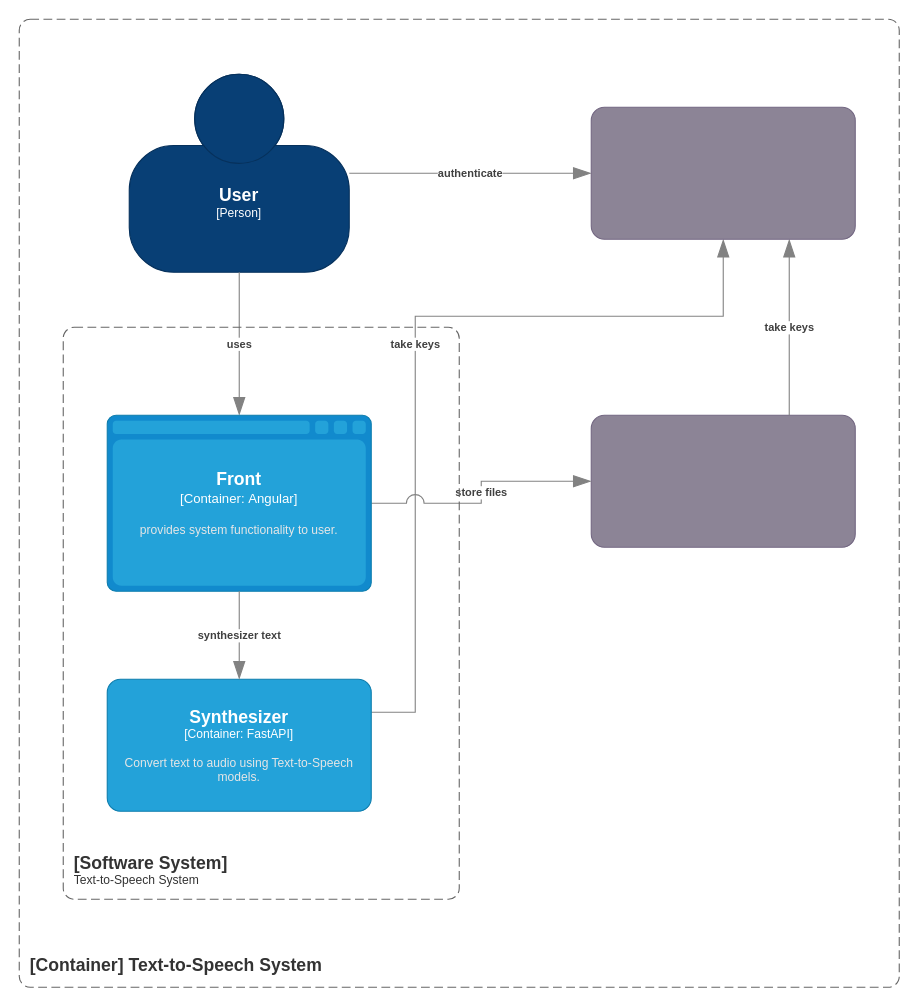
Image size: 919x1007. Some labels were removed from this diagram. The shapes that lost their labels are listed below. From the top down, each one's centre as x and y in pixels, then its label:
At pixel 722 172: "Identity and AccessManagement (IAM) [Software System]".
At pixel 722 480: "File Storage [Software System] Allows to store files".
